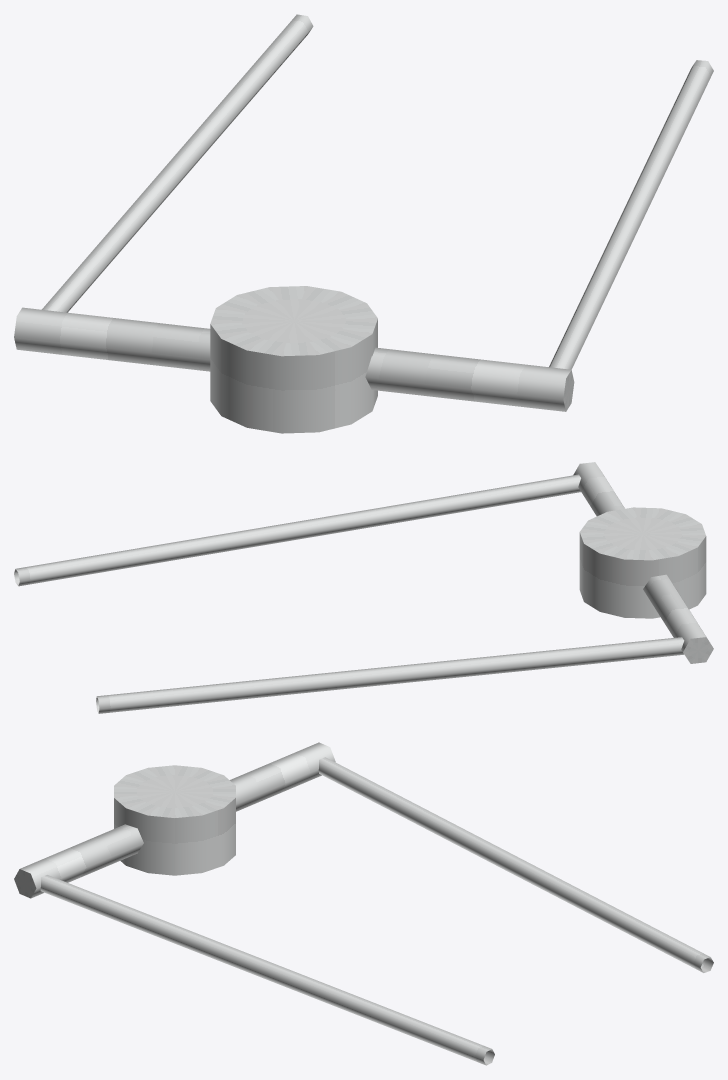
File: nycsignalarm_diagonal6_c0_pedestal.obj
3 views of the same model, one above another, from view 1: azimuth 30°, elevation 25°; view 2: azimuth 150°, elevation 25°; view 3: azimuth 270°, elevation 25° (orthographic). The views are drawn at different scales.
Visible parts, largest first — view 1: nycsignalarm_diagonal6_c0_pedestal; view 2: nycsignalarm_diagonal6_c0_pedestal; view 3: nycsignalarm_diagonal6_c0_pedestal.
Part boxes in pixels (x1,y1,x2,y2): nycsignalarm_diagonal6_c0_pedestal: [14, 14, 713, 433]; nycsignalarm_diagonal6_c0_pedestal: [14, 462, 713, 713]; nycsignalarm_diagonal6_c0_pedestal: [14, 742, 713, 1065].
Bounding box in the file's own units: 2.48 × 0.225 × 2.48.
